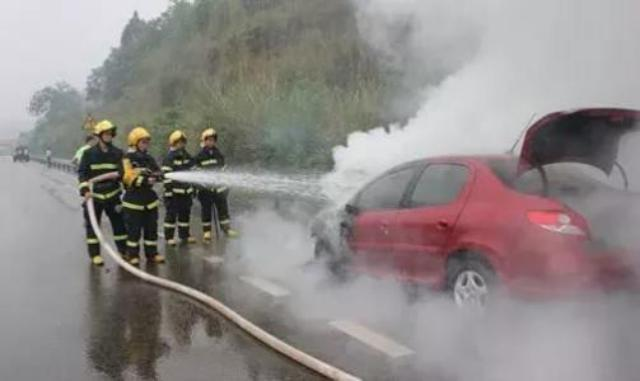smoke: (424, 2, 632, 108), (422, 303, 616, 379), (354, 111, 511, 152), (296, 282, 402, 323), (243, 217, 305, 264)
